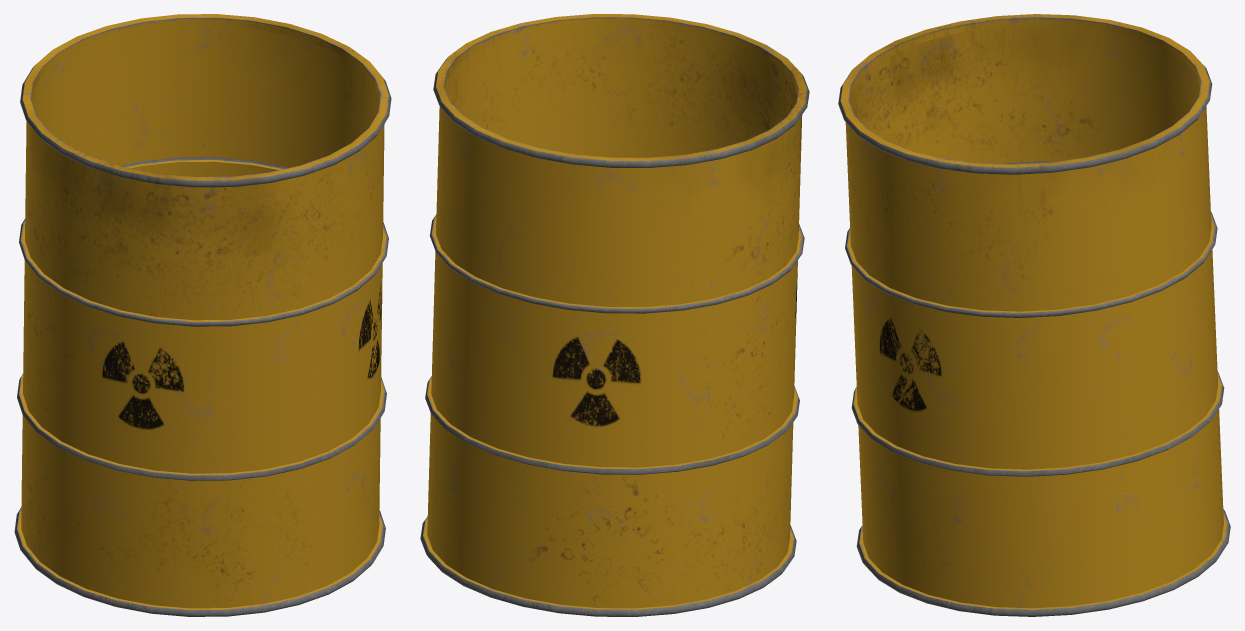
The model's file is tonneaux_vide.FBX.
The picture shows the model from 3 angles, left to right: view 1: azimuth 30°, elevation 25°; view 2: azimuth 150°, elevation 25°; view 3: azimuth 270°, elevation 25°; orthographic projection.
Parts seen in each view (by area): view 1: drum003; view 2: drum003; view 3: drum003.
Part boxes in pixels (box(x1,y1,x2,y2)): drum003: box(14, 14, 391, 616); drum003: box(420, 14, 809, 616); drum003: box(838, 14, 1230, 616).
Bounding box in the file's own units: 352 × 473 × 366.
